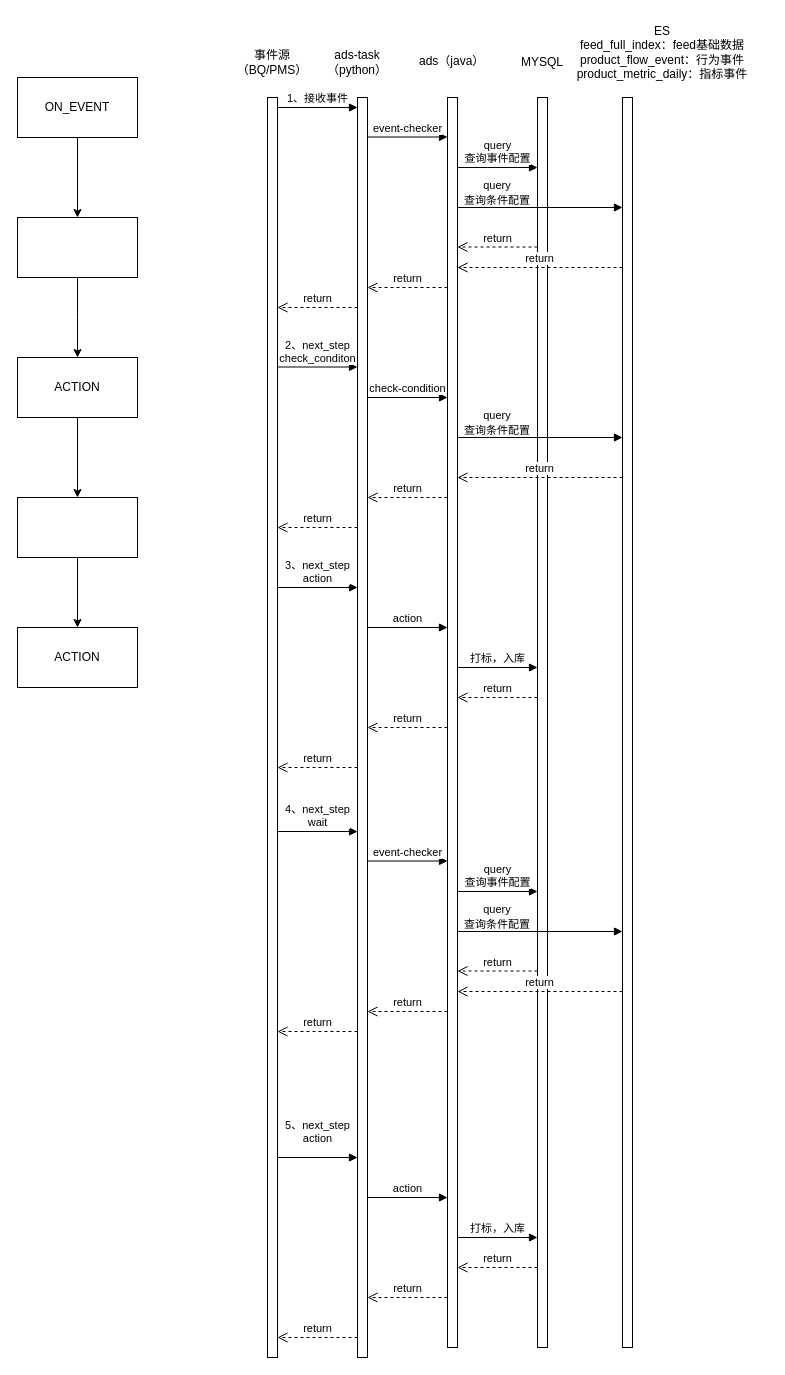
The diagram is 785 pixels wide and 1375 high, and some of its shapes have lost their labels. Here are the shapes that lost their labels. From the top down, the centre of each, then its label:
At pixel 77 247: "CHECK_CONDITION".
At pixel 77 527: "WAIT".
